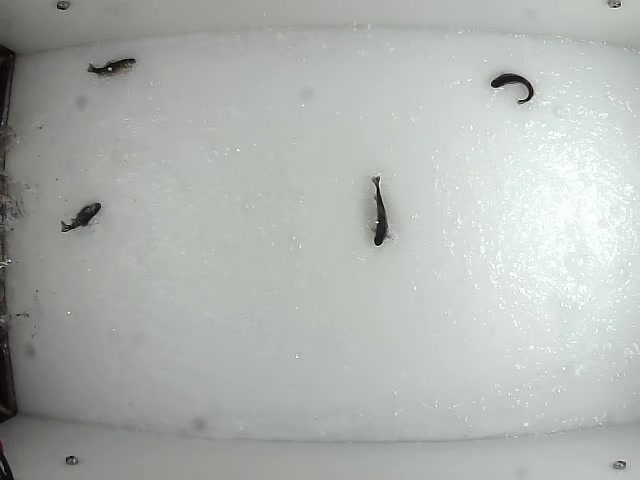fish: (367, 171, 393, 249), (57, 199, 104, 235), (489, 71, 537, 106), (84, 53, 138, 78)
